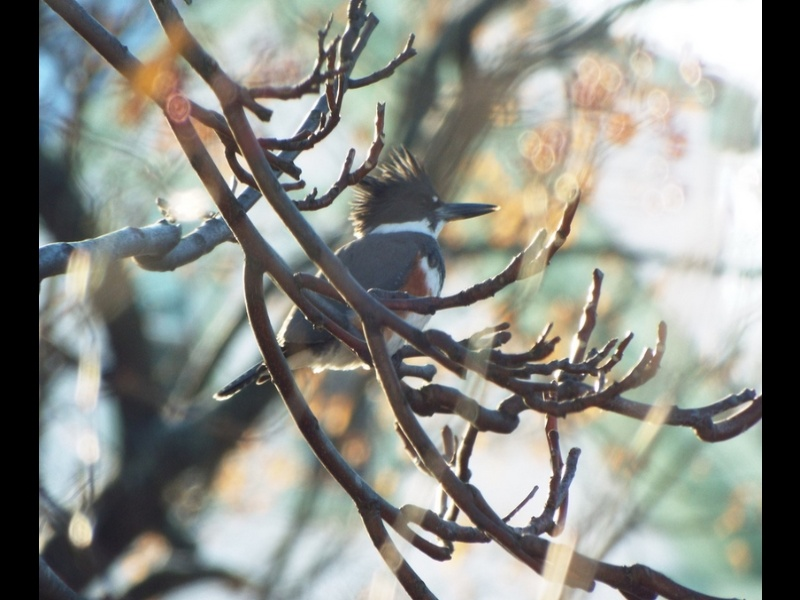kingfisher: (214, 147, 503, 407)
